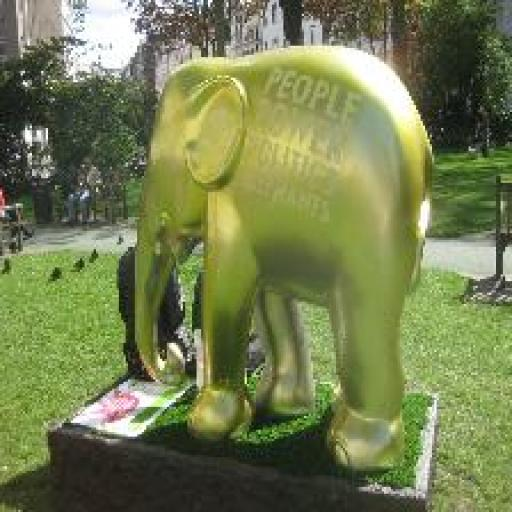Elephant: (128, 44, 434, 473)
